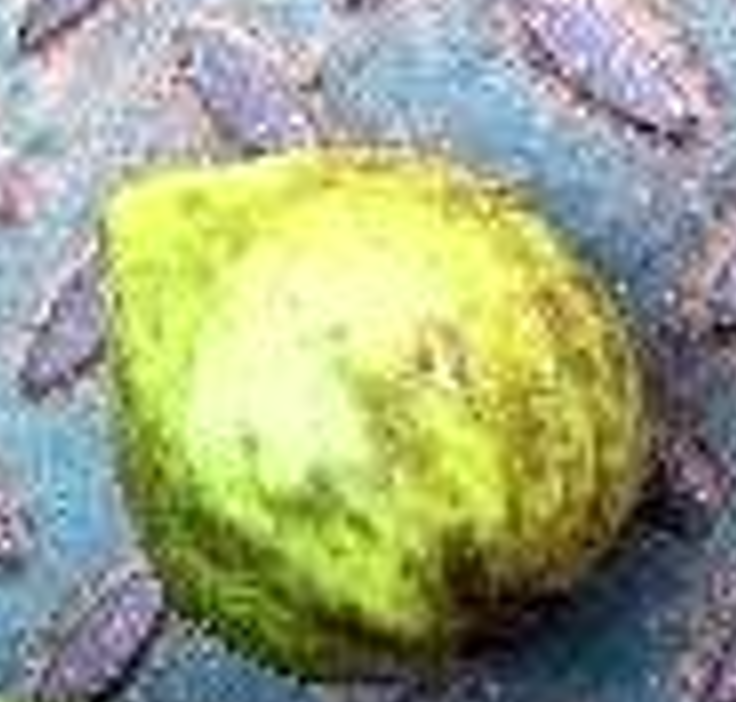guava_B: (95, 147, 659, 676)
